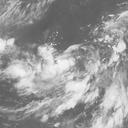cyclone: (23, 43, 83, 113)
